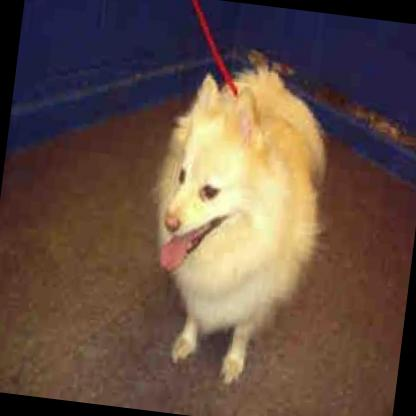Pomeranian: (132, 50, 334, 388)
